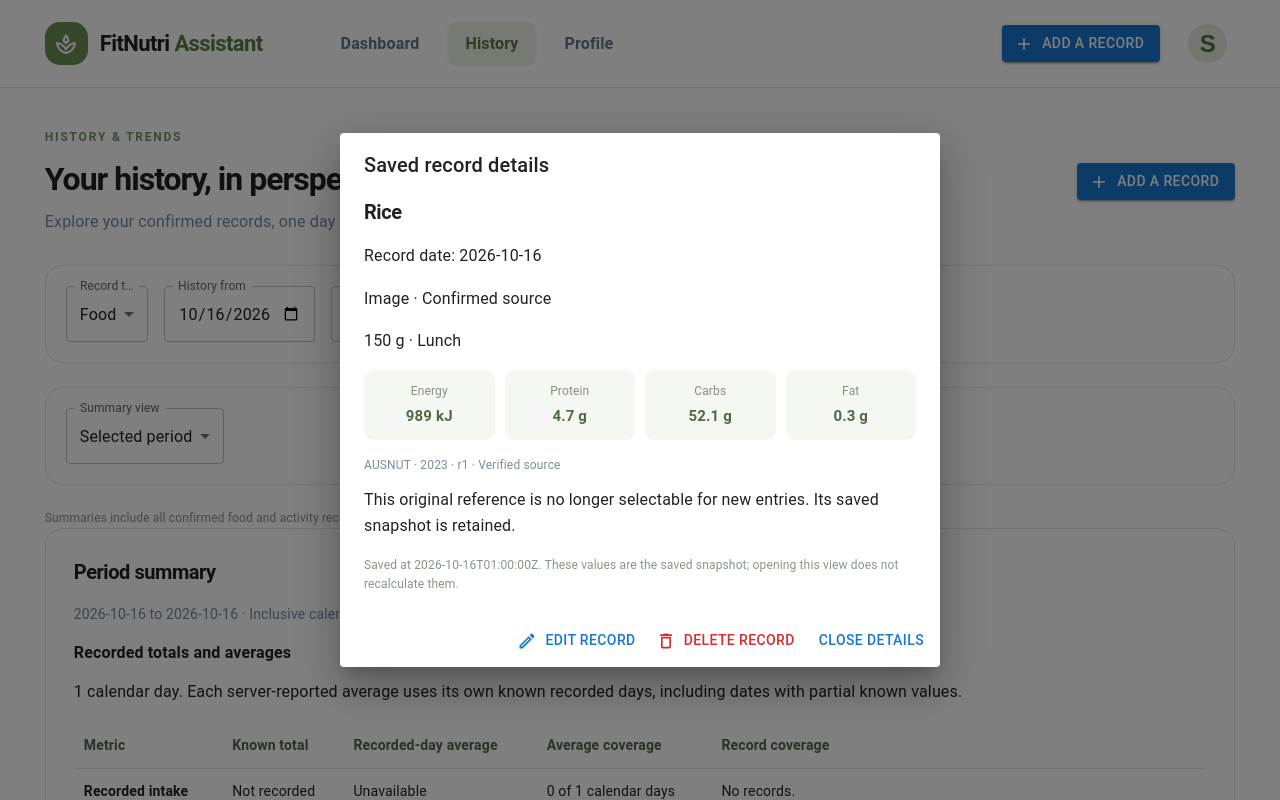
F13 History → edit → correction Review › loads current version, preserves IMAGE source without AI and updates the original record through PUT only
Check: the dialog "Saved record details" is shown, box [340,133,940,667]
Click the button "Edit record" at (579,641), box [514,622,644,659]
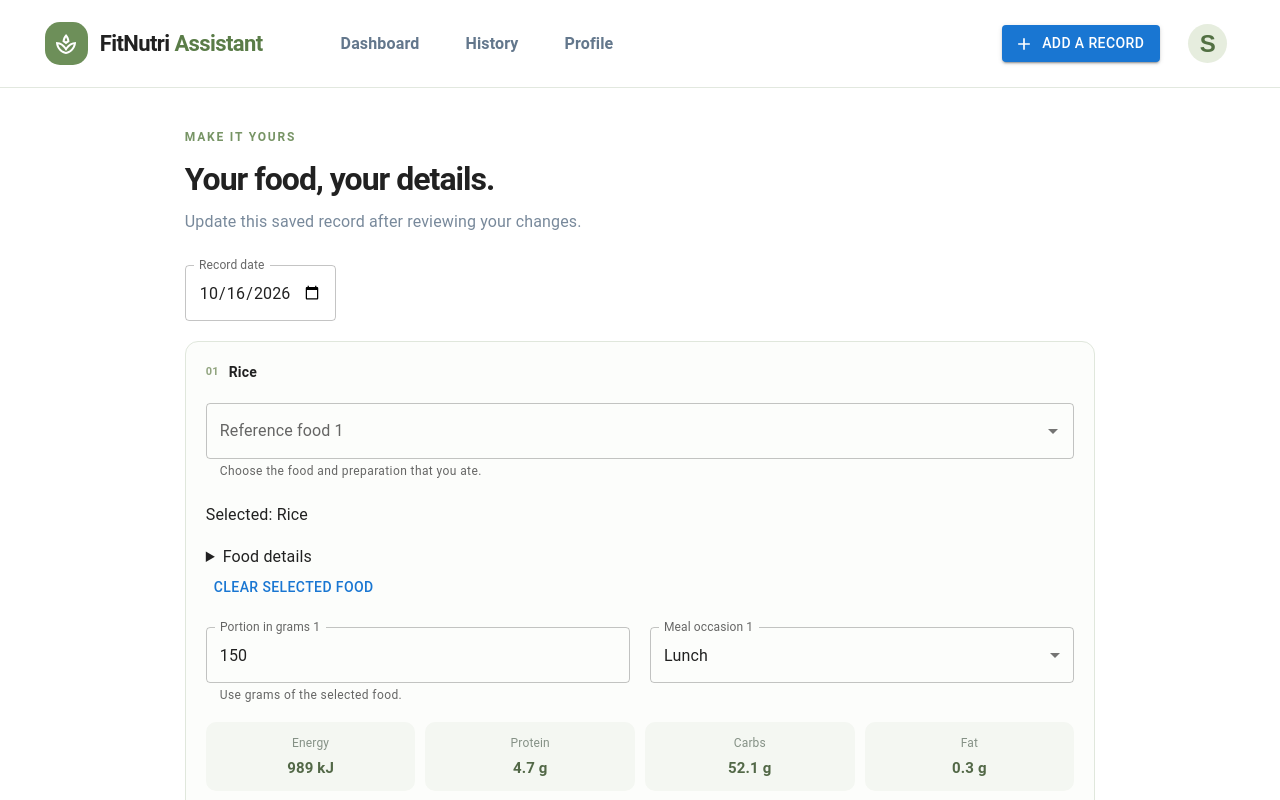
Check: the heading "Your food, your details." is shown, box [185,160,494,198]
Check: the dialog is gone
Type "2026-10-15" into the date field labelled "Record date" at (260,293), box [185,265,336,321]
(page scrolled)
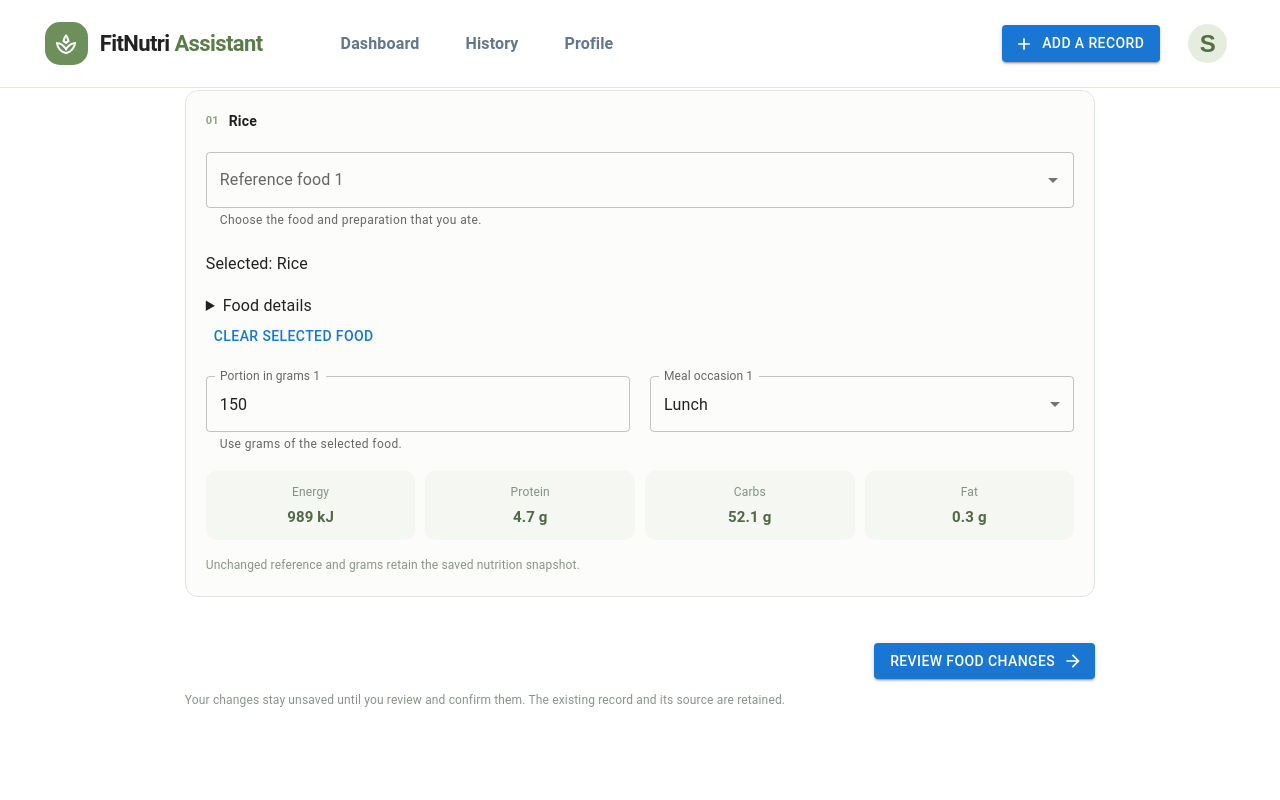
Click the button "Review food changes" at (985,661), box [874,643,1095,679]
(page scrolled)
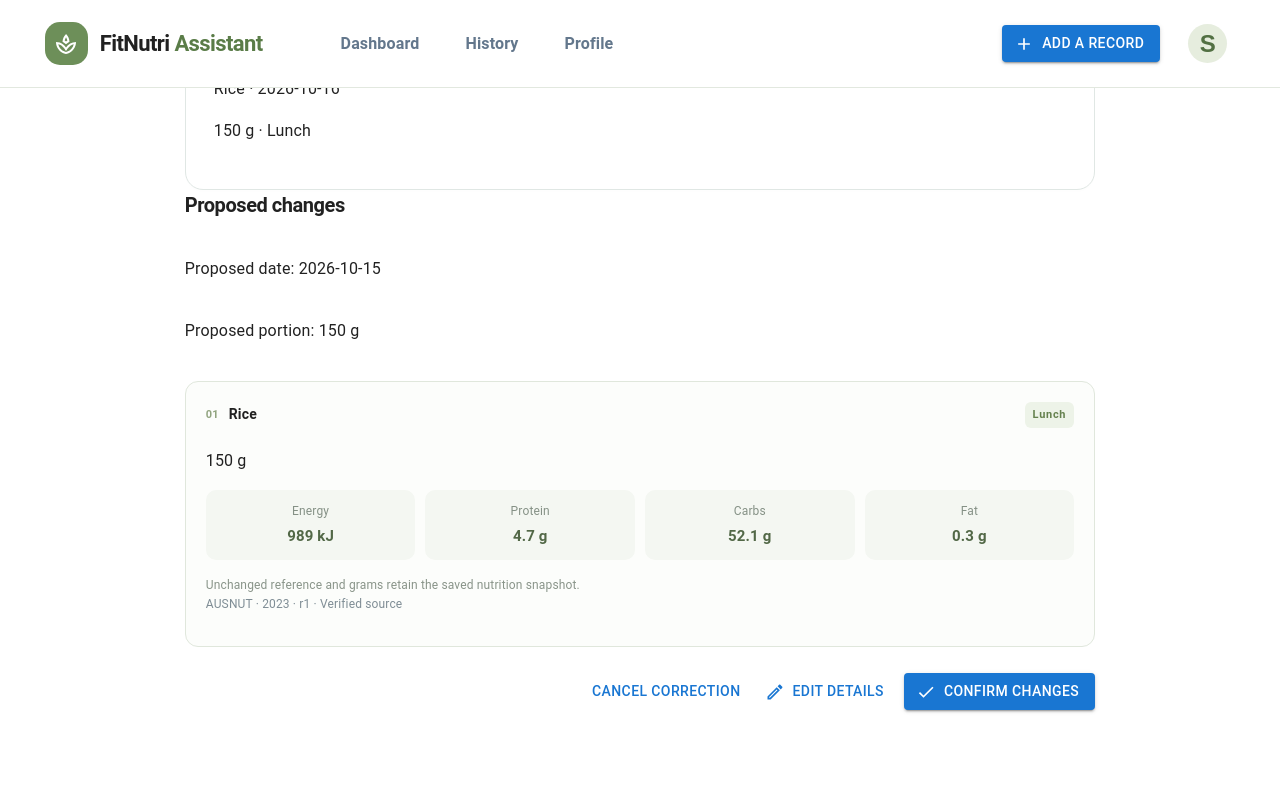
Check: the button "Confirm changes" is enabled
Click the button "Confirm changes" at (1000,692), box [904,673,1095,710]
(page scrolled)
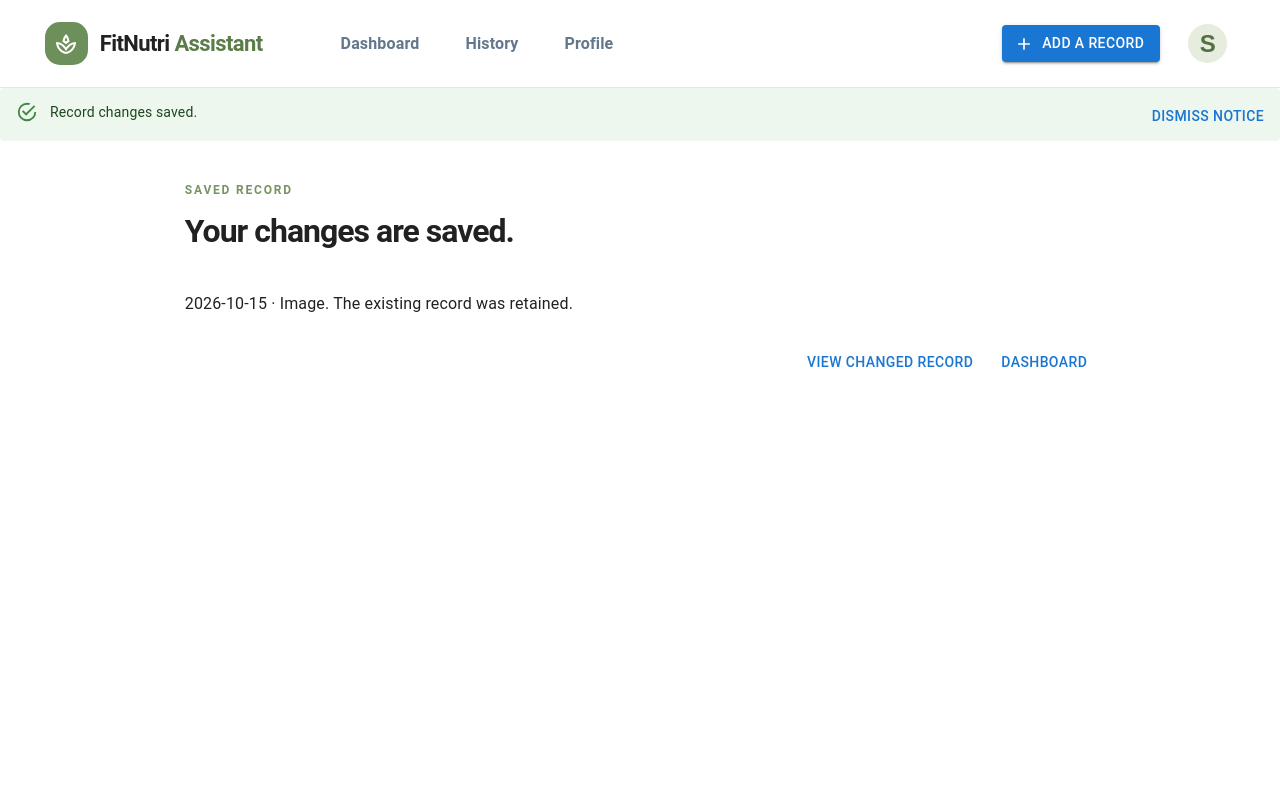
Check: the heading "Your changes are saved." is shown, box [185,212,514,251]
